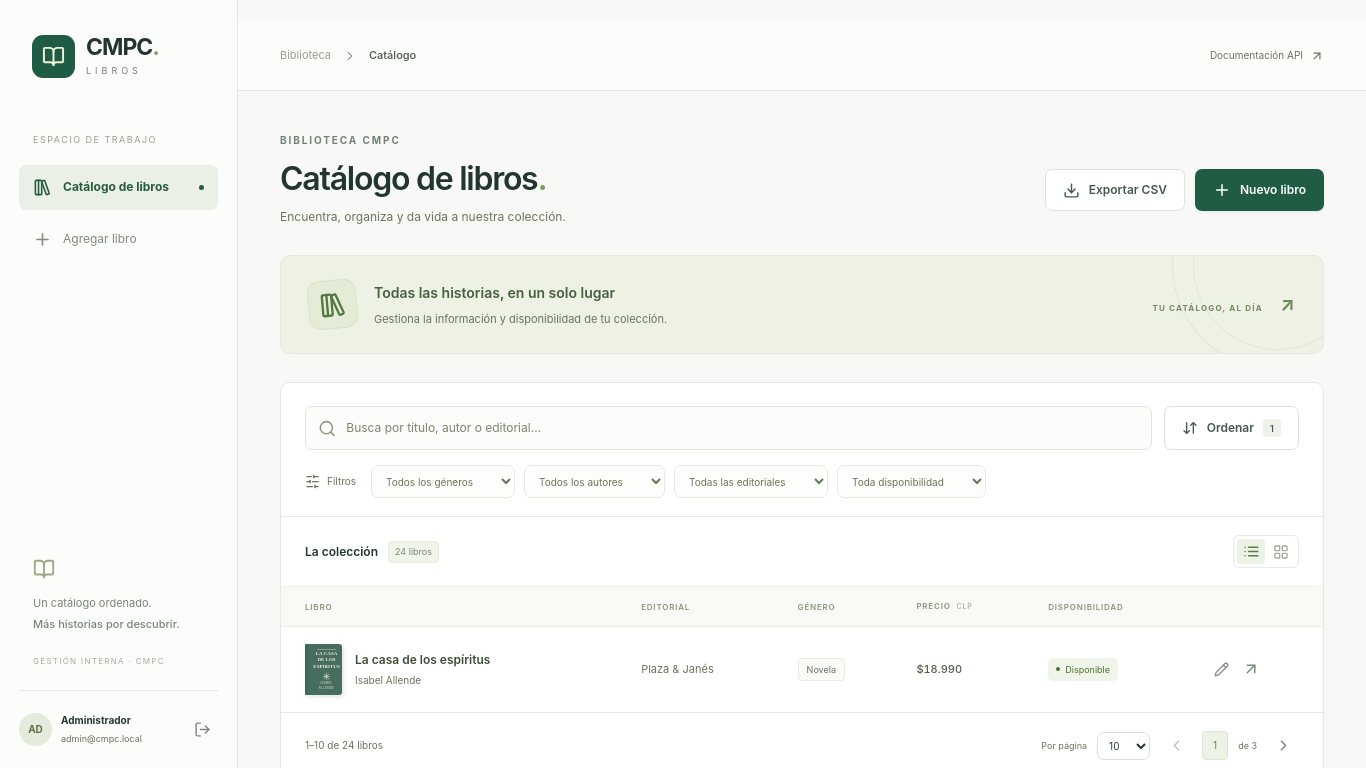
Test: Catálogo › informa falla de exportación
Click the button "Exportar CSV" at point(1115, 190), box [1045,169,1185,211]
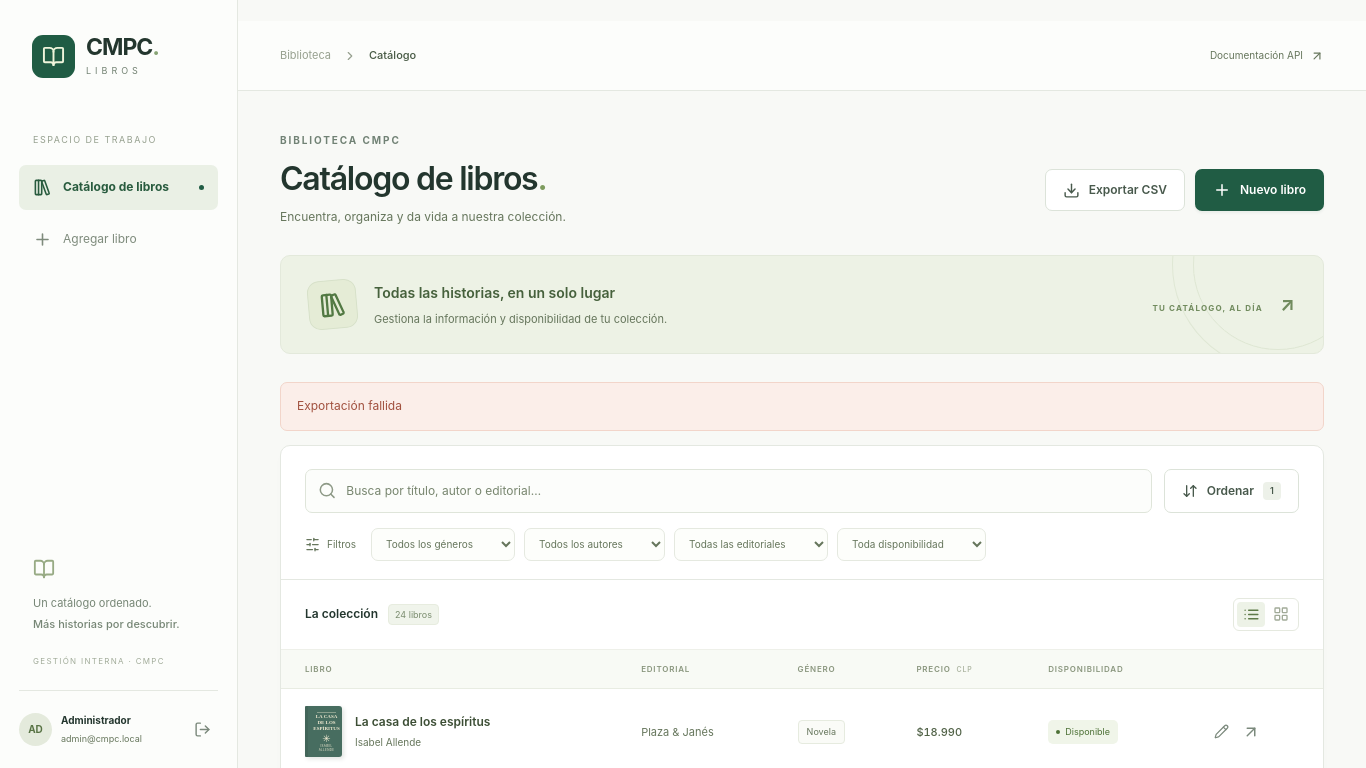
Expected: the message reads "Exportación fallida", [297,398,402,413]
